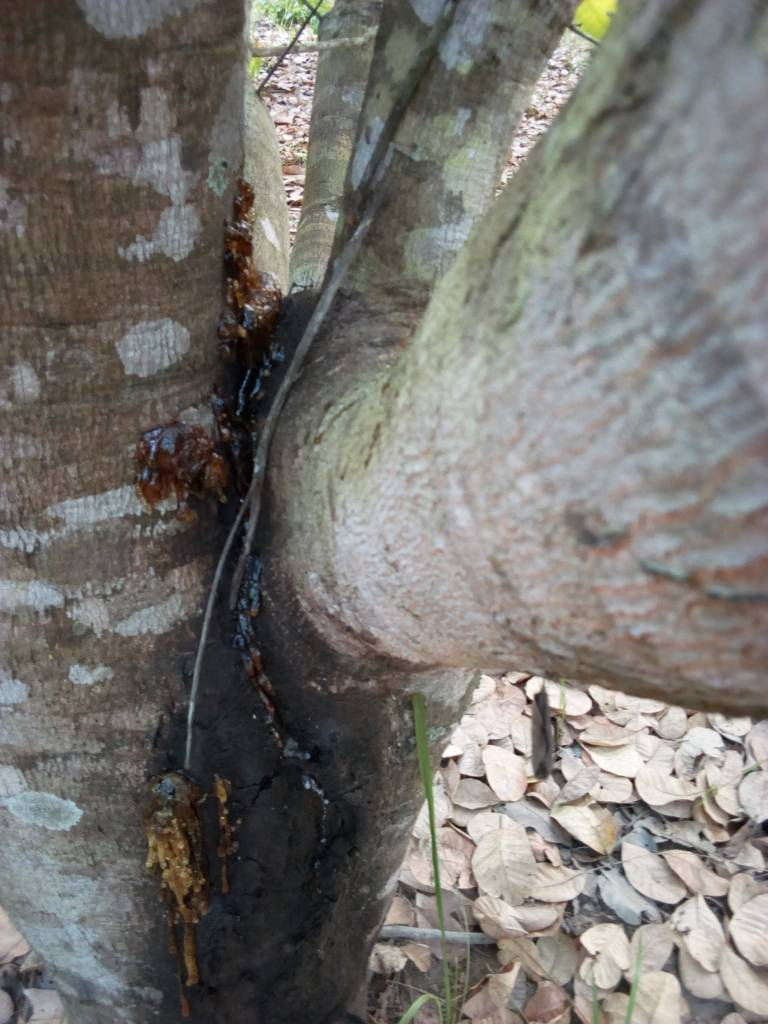Gommose: (158, 669, 343, 1024), (143, 392, 269, 619)
